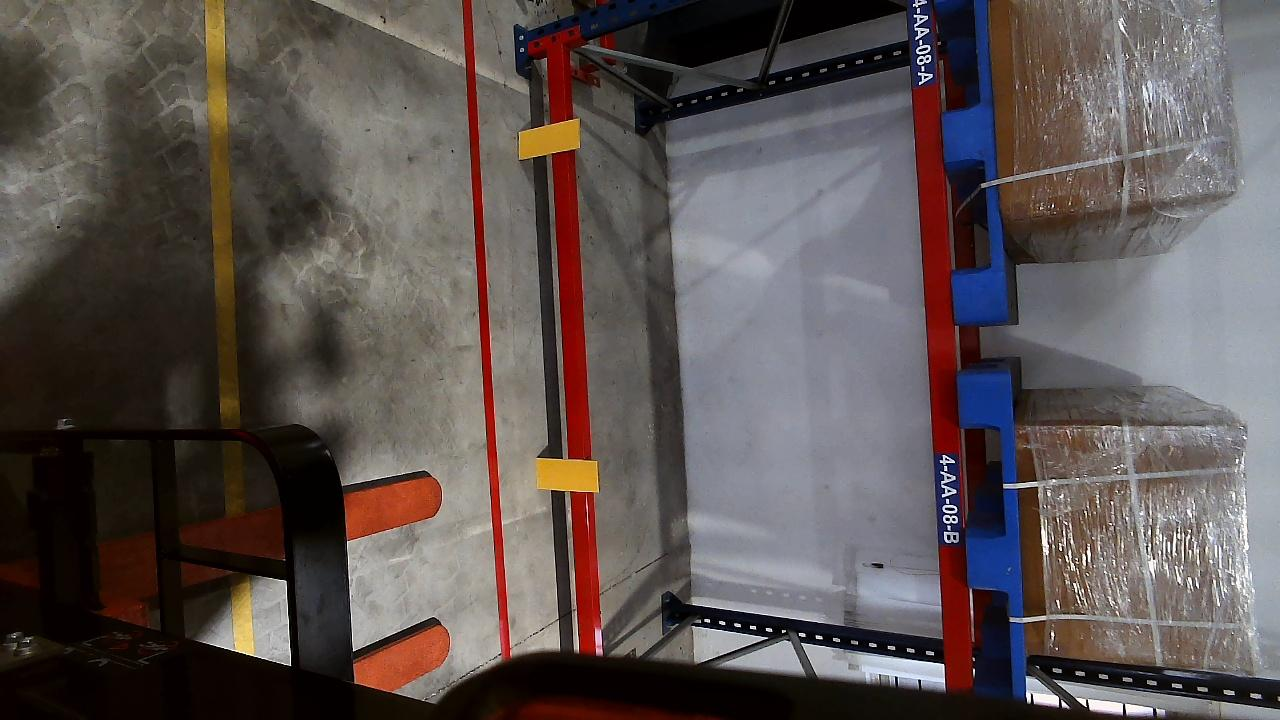h_rack: (904, 0, 978, 687), (546, 57, 594, 664)
orange_strip: (518, 119, 582, 159), (534, 458, 599, 493)
red_line: (463, 28, 507, 637)
small_pallet: (955, 370, 1030, 680), (942, 0, 1011, 325)
yellow_line: (204, 2, 243, 427)
